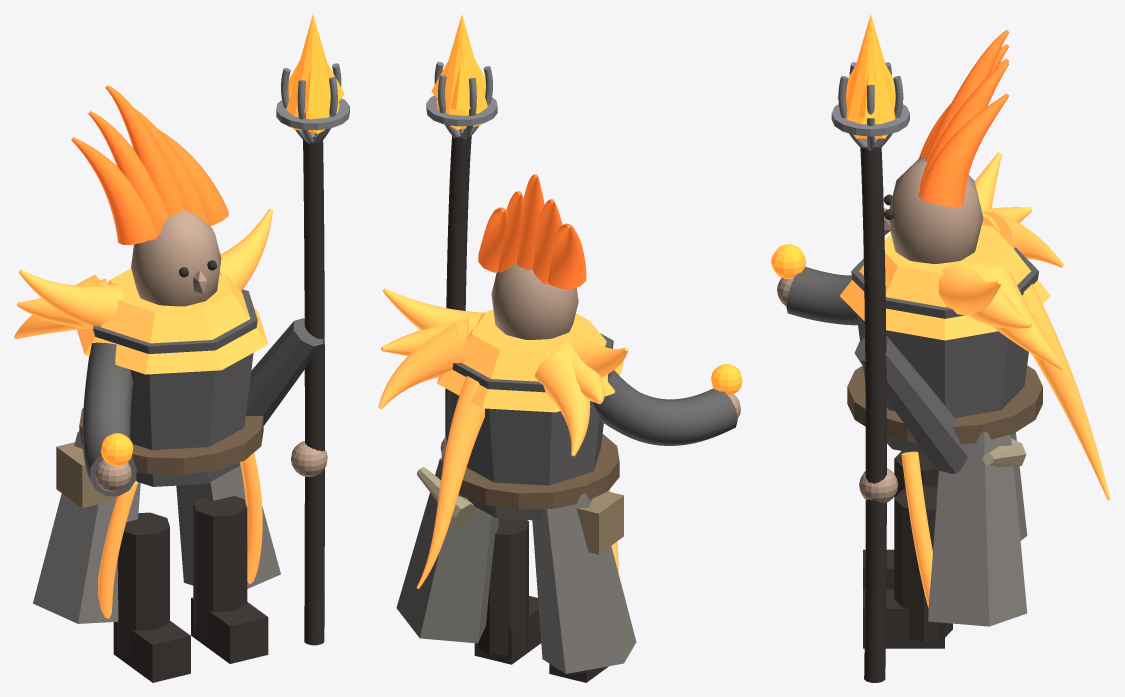
Rendered from cassia.glb.
The picture shows the model from 3 angles, left to right: view 1: azimuth 30°, elevation 25°; view 2: azimuth 150°, elevation 25°; view 3: azimuth 270°, elevation 25°; orthographic projection. The views are drawn at different scales.
Parts seen in each view (by area): view 1: cassia, brazier_flame; view 2: cassia, brazier_flame; view 3: cassia, brazier_flame.
Boxes of the visible parts, <box> form: cassia: <box>14,63,349,682</box>; brazier_flame: <box>286,15,344,119</box>; cassia: <box>378,61,742,682</box>; brazier_flame: <box>431,14,487,115</box>; cassia: <box>771,30,1110,682</box>; brazier_flame: <box>837,14,904,124</box>.
Bounding box in the file's own units: 0.8899 × 1.87 × 0.8688.
